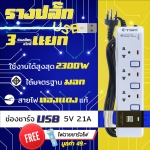Three_eye_plug: (109, 23, 147, 141)
